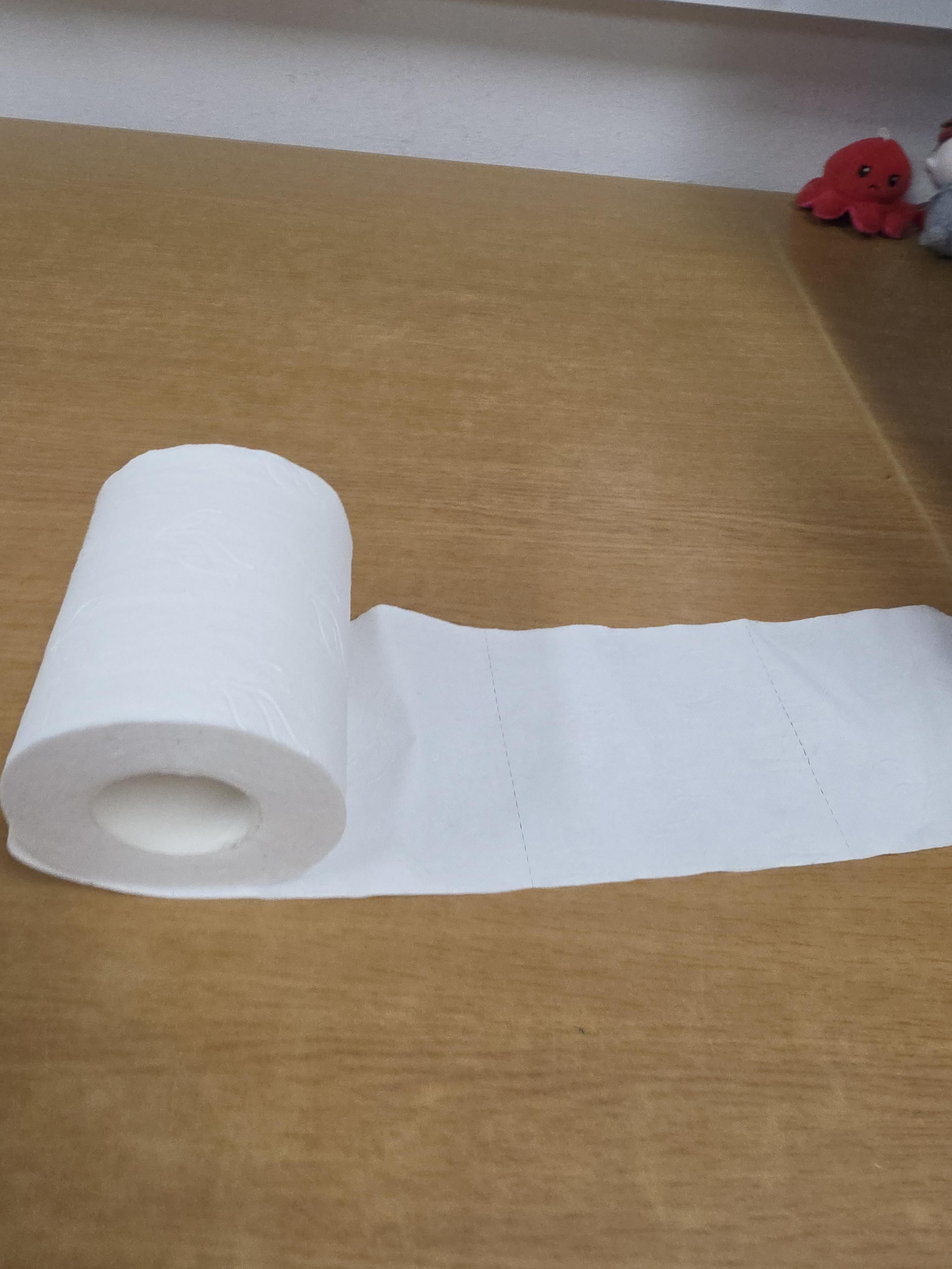tissue: (0, 443, 951, 902)
